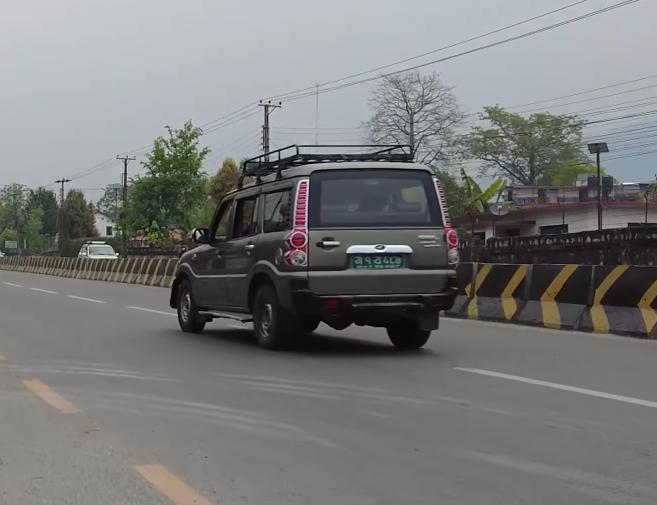SUV: (169, 134, 459, 357)
